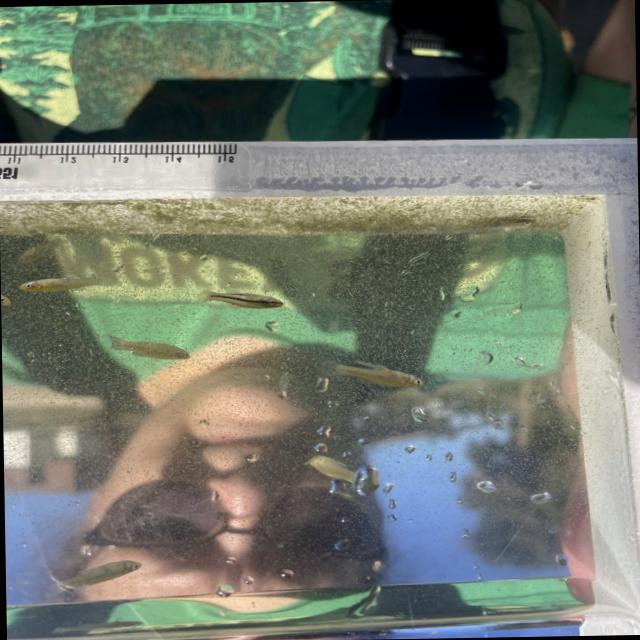Sivrisinek Baligi: (321, 354, 425, 396), (17, 263, 128, 301), (97, 334, 201, 370), (299, 447, 368, 501), (466, 210, 550, 243), (196, 284, 286, 314)
